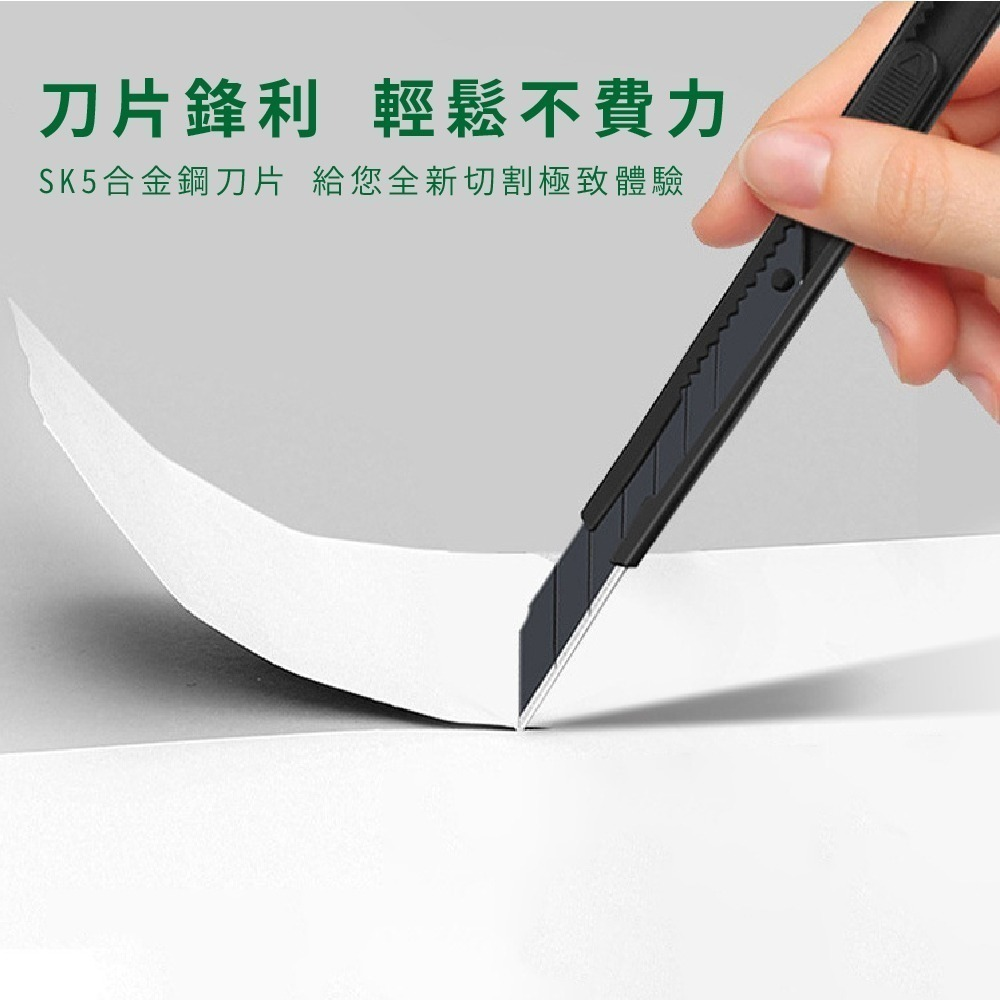cutter: (510, 5, 1000, 737)
